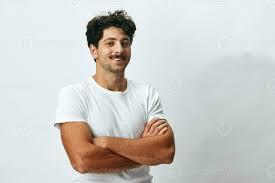person: (80, 10, 142, 76)
